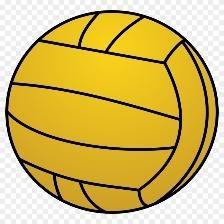Sports-Ball: (7, 9, 217, 214)
